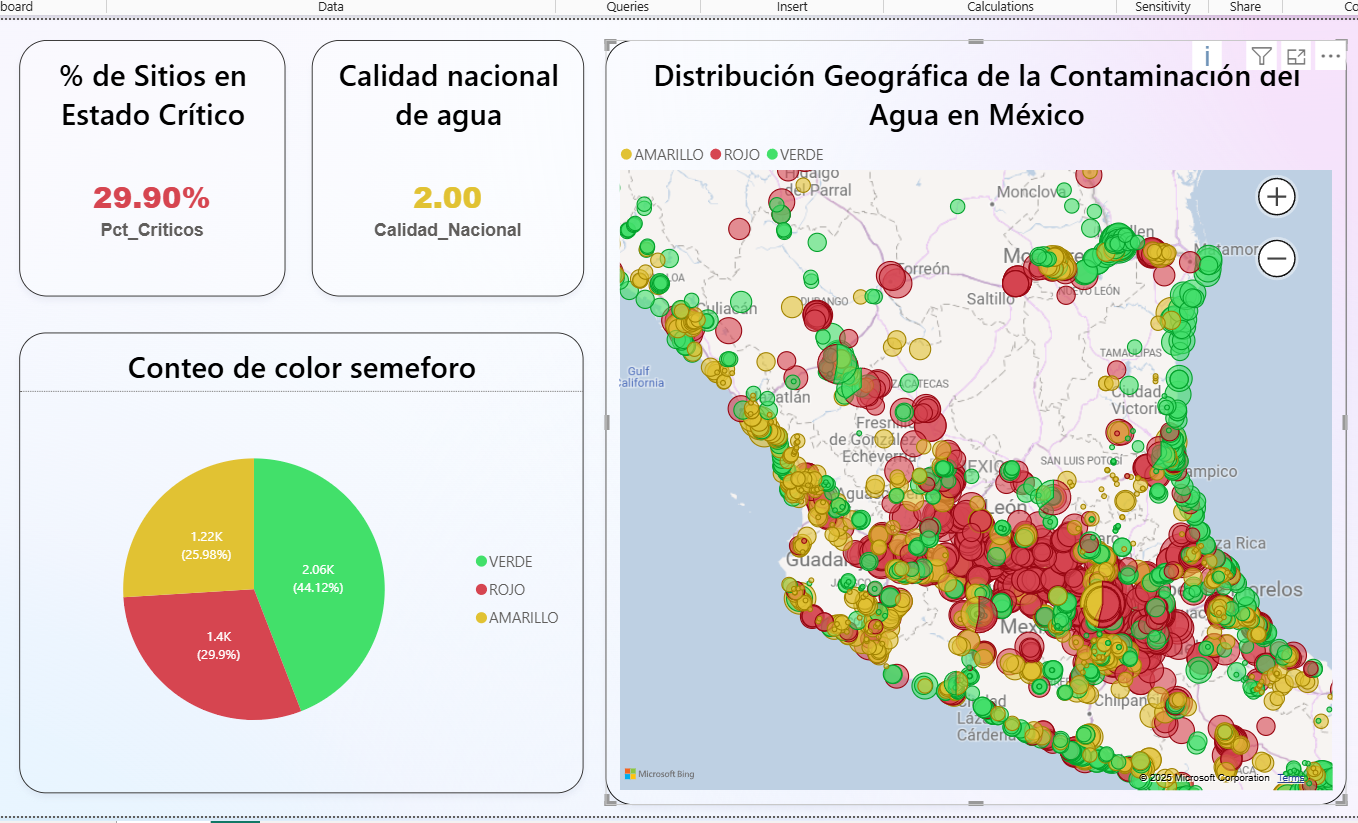

The page's visual inventory and layout, read from the dashboard file:
{"tool":"powerbi","page":{"name":"Page 1","canvas":[1280,720],"ordinal":0},"visuals":[{"type":"card","title":" % de Sitios en Estado  Crítico  ","fields":{"Values":["calidad_agua_clean.Pct_Criticos"]},"box":[55.9,18.6,240.6,232.1],"z":0},{"type":"pieChart","title":"Conteo de color semeforo","fields":{"Category":["calidad_agua_clean.semaforo"],"Y":["CountNonNull(calidad_agua_clean.clave_sitio)"]},"box":[55.7,282.9,510,417.1],"z":1000},{"type":"card","title":" Calidad nacional de agua","fields":{"Values":["calidad_agua_clean.Calidad_Nacional"]},"box":[319.4,18.6,246.4,232.1],"z":2000},{"type":"map","title":"Distribución Geográfica de la Contaminación del Agua en México","fields":{"Y":["calidad_agua_clean.latitud"],"X":["calidad_agua_clean.longitud"],"Size":["Sum(calidad_agua_clean.indice_calidad_general)"],"Series":["calidad_agua_clean.semaforo"]},"box":[585.7,18.1,670.5,692],"z":3000},{"type":"qnaVisual","box":[0,704.4,12.4,12.4],"z":4000}]}

Visuals, with their boxes in screenshot pixels (x1, y1, x2, y2):
" % de Sitios en Estado  Crítico  " card: box=[25, 73, 286, 325]
"Conteo de color semeforo" pieChart: box=[25, 360, 578, 812]
" Calidad nacional de agua" card: box=[311, 73, 578, 325]
"Distribución Geográfica de la Contaminación del Agua en México" map: box=[600, 73, 1327, 822]
